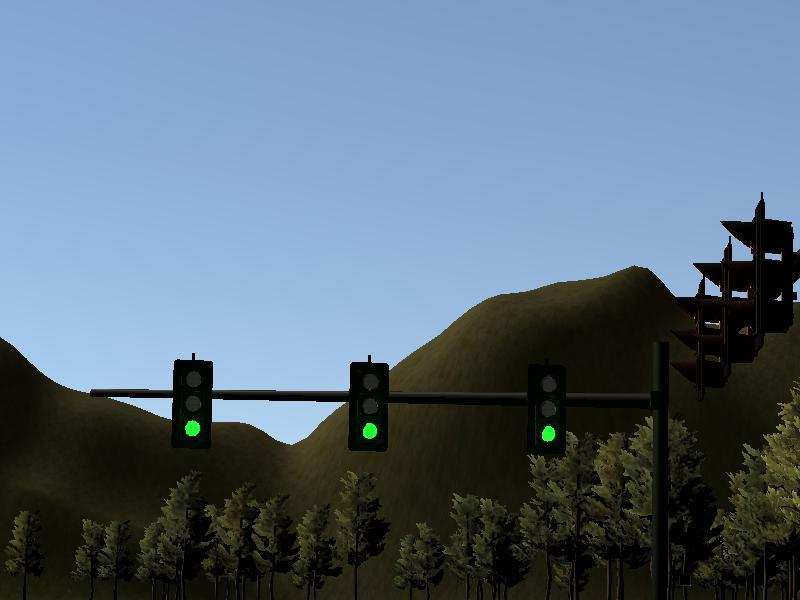Green: (172, 360, 212, 449), (348, 362, 388, 451), (526, 367, 566, 456)
